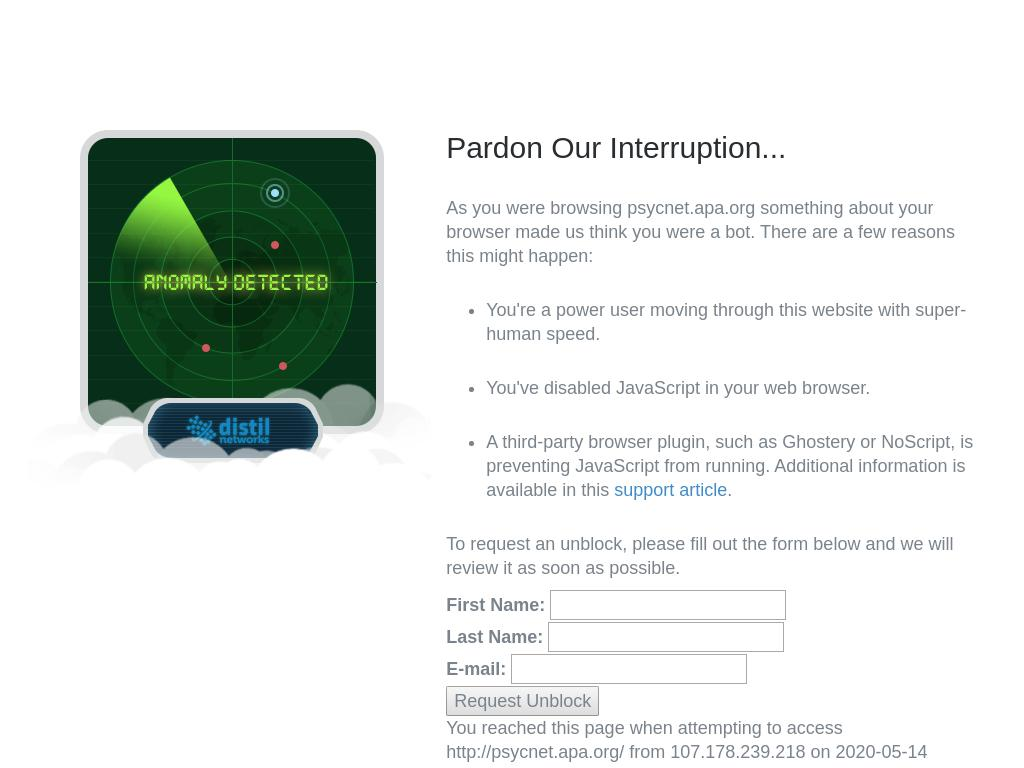field: (550, 590, 787, 620), (548, 622, 785, 652), (511, 654, 748, 684), (446, 686, 600, 716)
heading: (446, 130, 982, 166)
image: (27, 130, 431, 570)
label: (446, 593, 546, 617), (446, 625, 544, 649), (446, 657, 507, 681)
link: (614, 480, 728, 500)
text: (446, 198, 956, 266), (486, 432, 974, 500), (446, 532, 982, 580), (446, 718, 928, 768), (486, 298, 982, 346), (486, 376, 982, 400), (446, 198, 628, 218), (627, 198, 756, 218), (727, 480, 733, 500)
